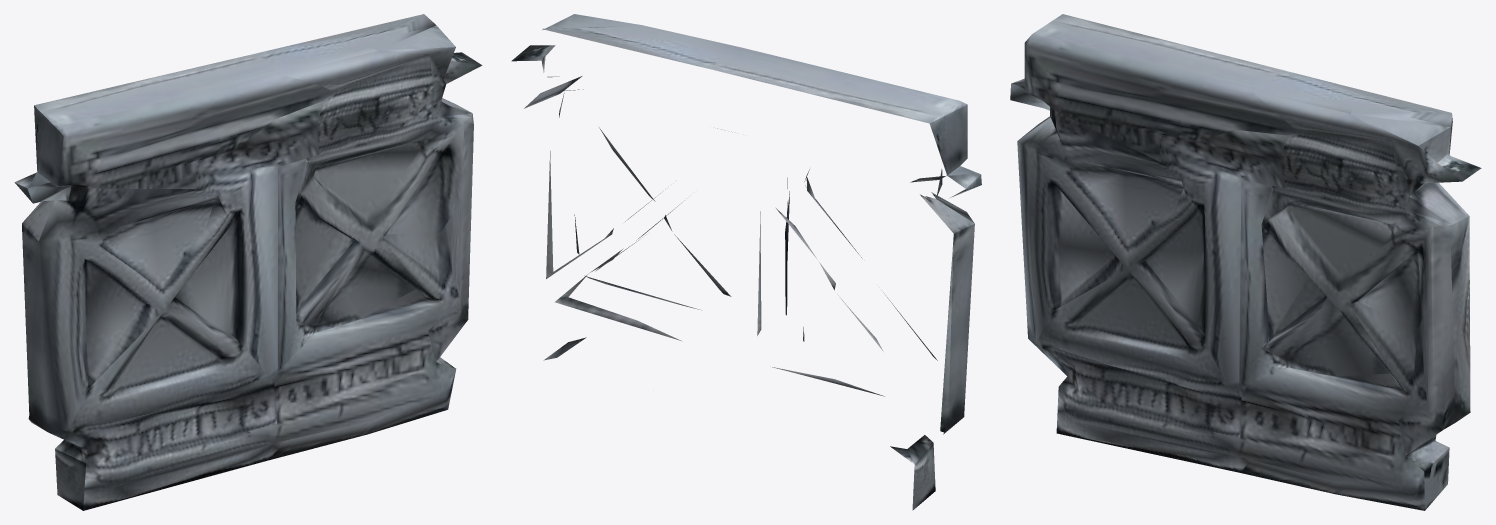
Rendered from hangar_door_double.glb.
The picture shows the model from 3 angles, left to right: view 1: azimuth 30°, elevation 25°; view 2: azimuth 150°, elevation 25°; view 3: azimuth 330°, elevation 25°; orthographic projection.
Visible parts, largest first — view 1: hangar_door_double; view 2: hangar_door_double; view 3: hangar_door_double.
Part boxes in pixels (x1,y1,x2,y2): hangar_door_double: [14, 14, 482, 510]; hangar_door_double: [511, 14, 981, 510]; hangar_door_double: [1010, 14, 1481, 510].
Bounding box in the file's own units: 0.1195 × 0.0995 × 0.0178.
Materials: 1 (1 with a texture image).
